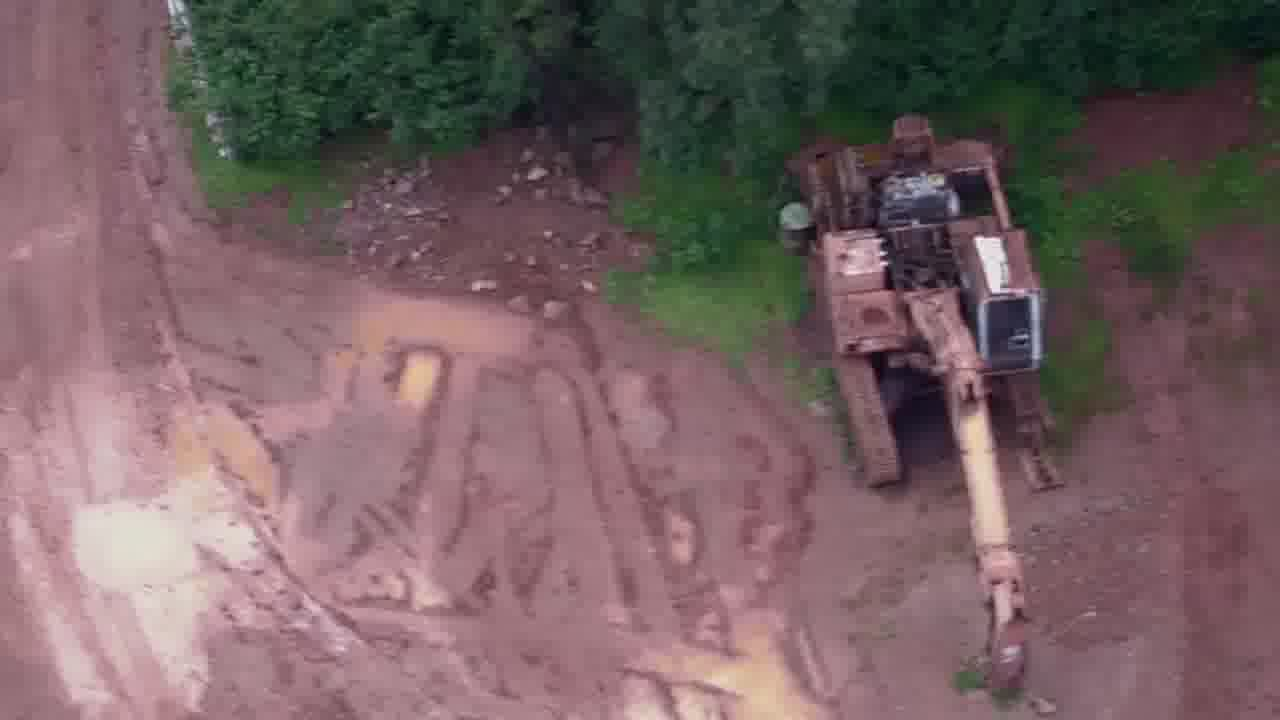HMV: (779, 96, 1063, 683)
